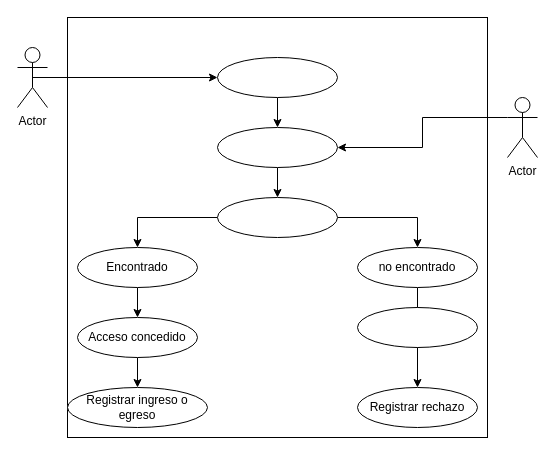
Some shapes in this 555 by 455 pixel diagram are drawn without their labels. The box of each missing label's shape, as (x1, y1, x2, y2) in pixels:
Buscar por cui: (216, 196, 338, 238)
identificarse: (216, 56, 338, 98)
Login: (216, 126, 338, 168)
Rechazar ingreso: (356, 306, 478, 348)
